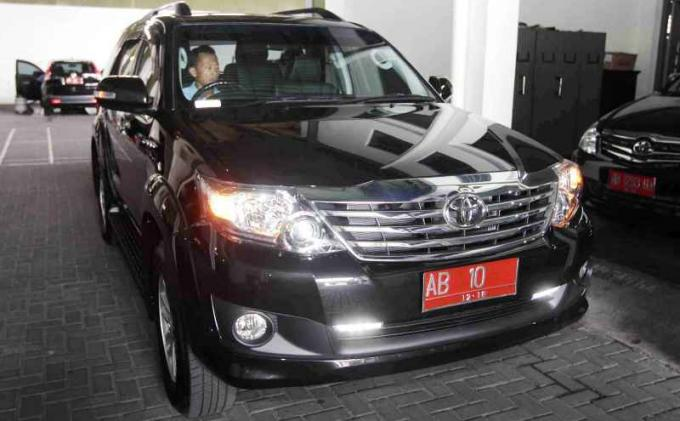plate: (423, 257, 517, 311)
